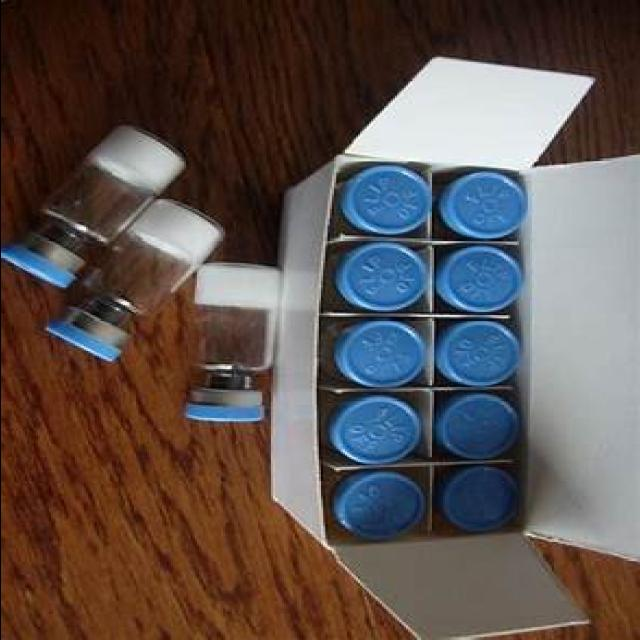vial: (325, 394, 419, 484), (328, 470, 428, 546), (430, 245, 518, 325), (438, 170, 524, 248), (446, 318, 538, 388), (330, 318, 420, 388), (436, 391, 518, 467), (347, 167, 421, 239), (47, 303, 124, 369), (350, 242, 422, 308), (441, 470, 516, 532), (8, 225, 76, 289), (186, 386, 272, 434)
